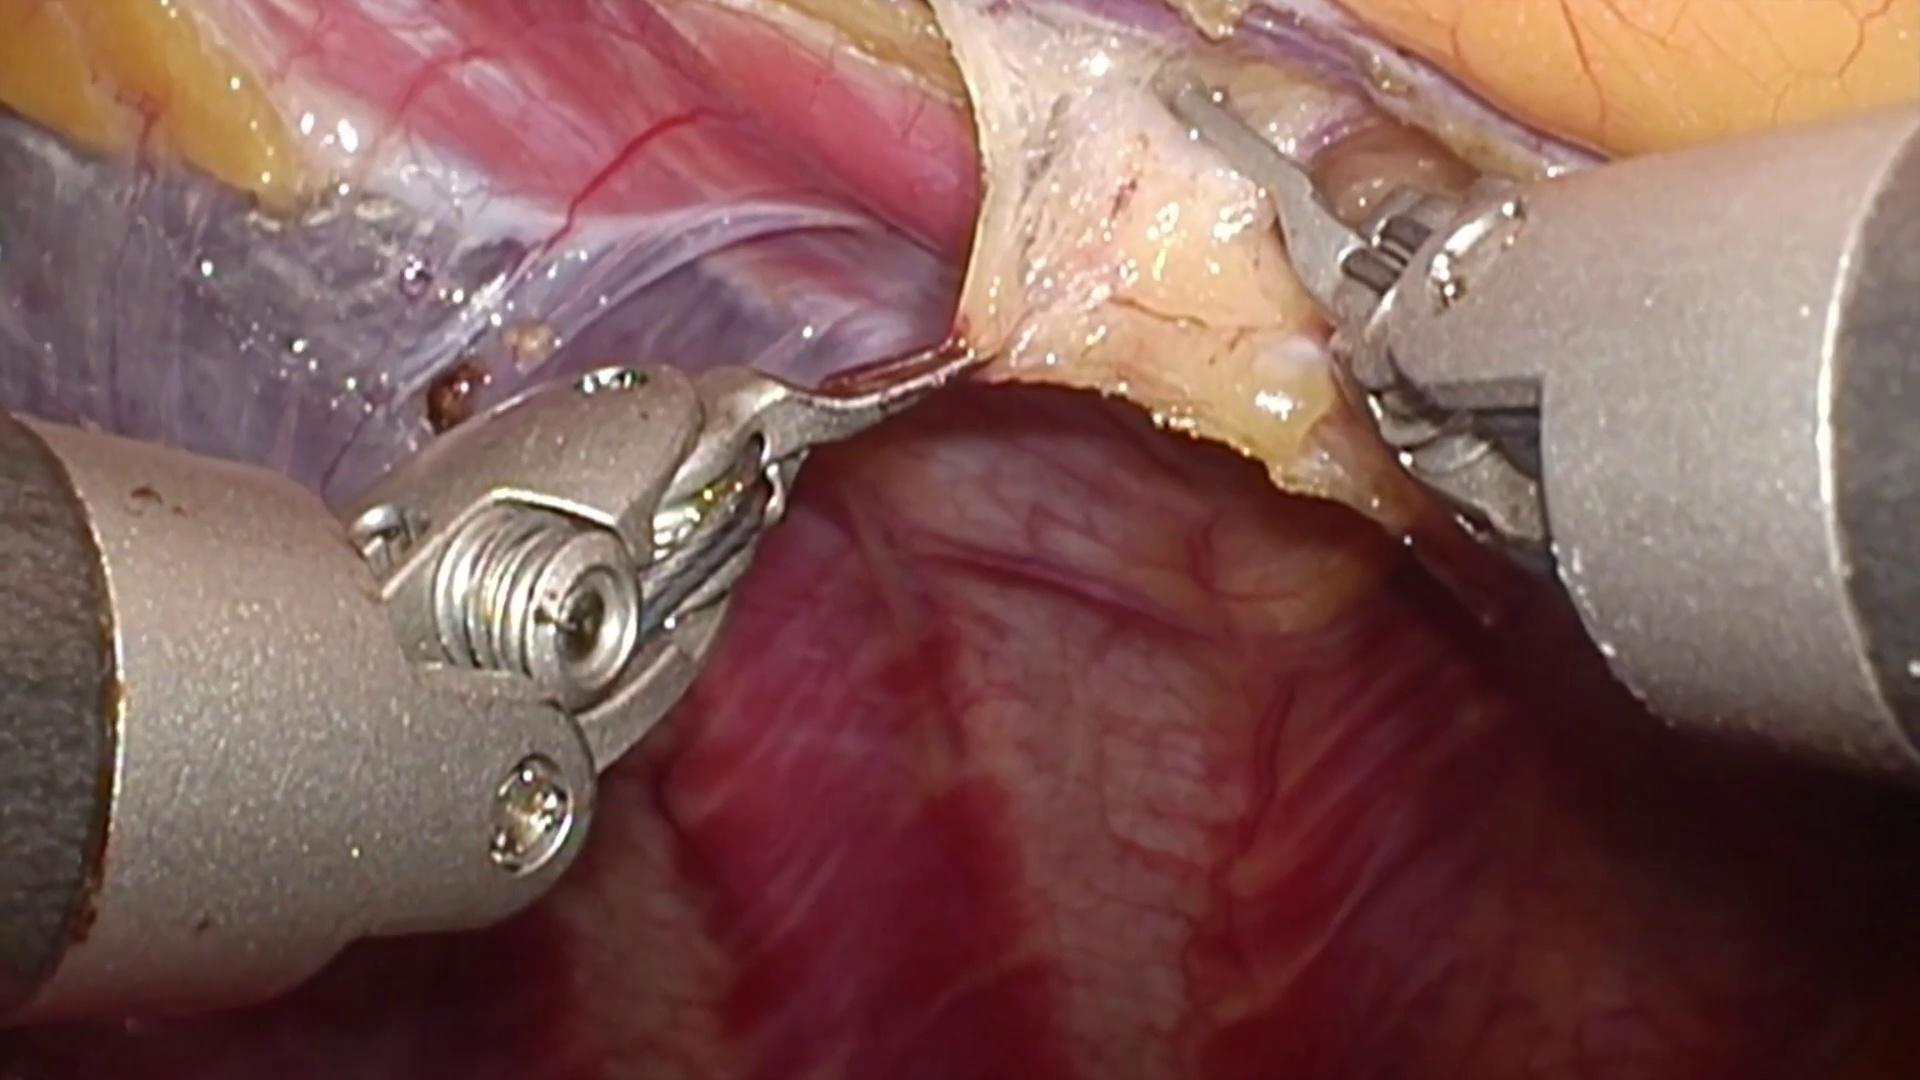Debakey: (700, 328, 976, 467)
clipper: (1150, 57, 1567, 626)
